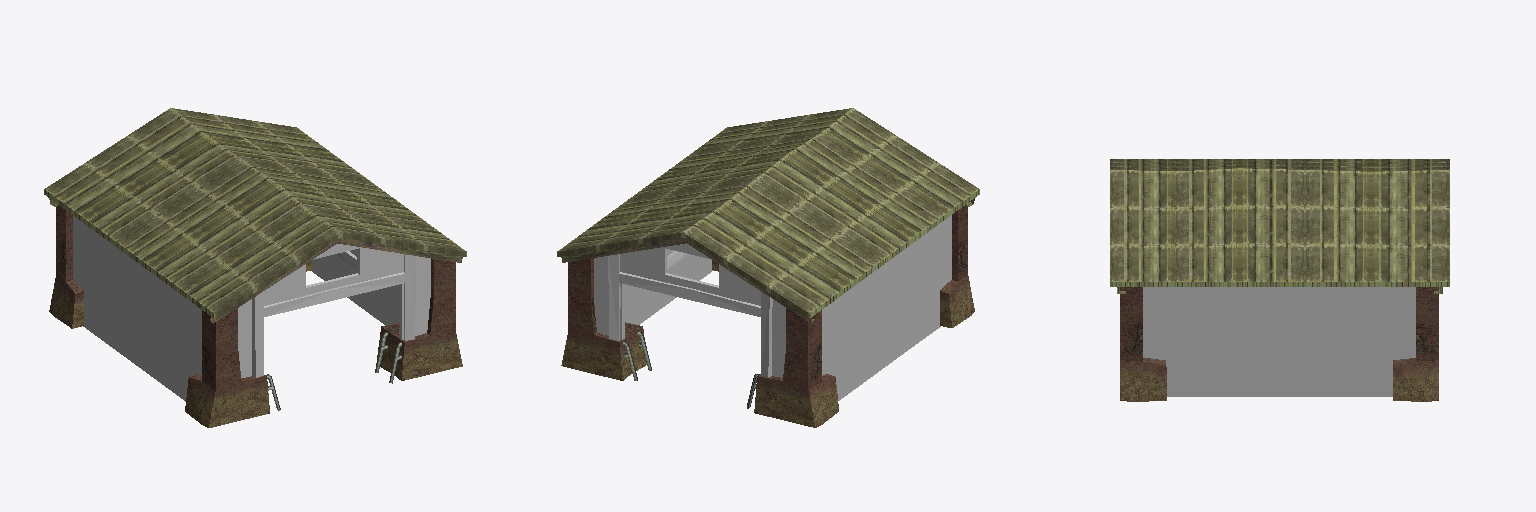
3 views of the same model, side by side, from view 1: azimuth 30°, elevation 25°; view 2: azimuth 150°, elevation 25°; view 3: azimuth 270°, elevation 25° (orthographic).
Visible parts, largest first — view 1: Node 0; view 2: Node 0; view 3: Node 0.
Part boxes in pixels (x1,y1,x2,y2): Node 0: (44,108,466,427); Node 0: (557,108,979,427); Node 0: (1110,159,1449,401).
Size of the model in its own units: 31.46 by 20.43 by 36.02.
6 materials, 5 textured.